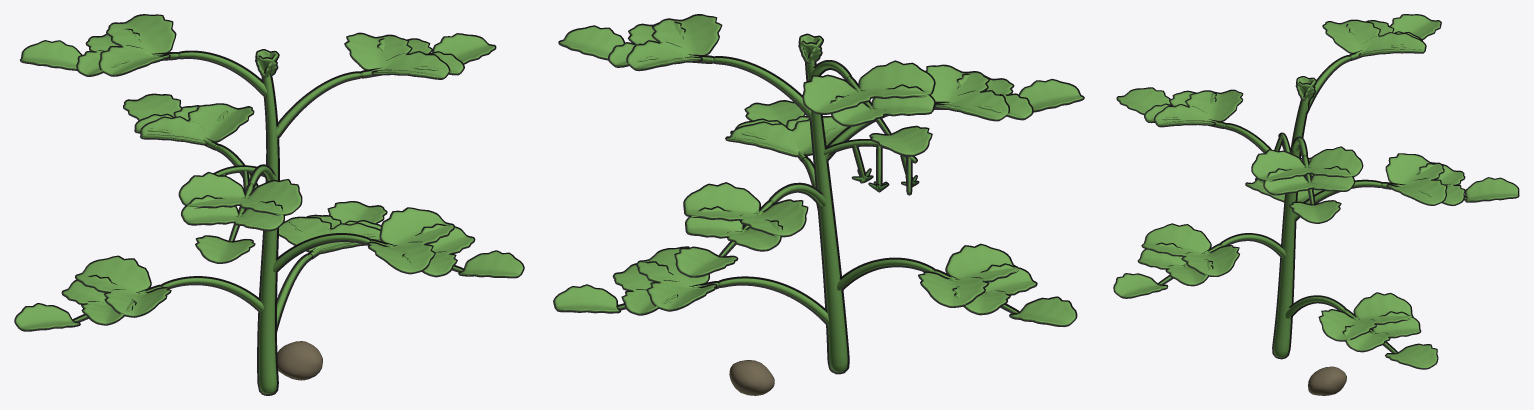
The model's file is tomatoyoungground.fbx.
3 renders of one model, left to right at view 1: azimuth 30°, elevation 25°; view 2: azimuth 150°, elevation 25°; view 3: azimuth 270°, elevation 25°, orthographic. The views are drawn at different scales.
Parts seen in each view (by area): view 1: TomYoung_Leaflets, TomYoung_Stems, TomYoung_Clod_00; view 2: TomYoung_Leaflets, TomYoung_Stems, TomYoung_Truss, TomYoung_Clod_00; view 3: TomYoung_Leaflets, TomYoung_Stems, TomYoung_Clod_00.
Boxes of the visible parts, x1,y1,x2,y2 form: TomYoung_Leaflets: (14, 14, 524, 331); TomYoung_Stems: (72, 50, 464, 395); TomYoung_Clod_00: (277, 341, 322, 380); TomYoung_Leaflets: (553, 14, 1084, 326); TomYoung_Stems: (616, 54, 1020, 374); TomYoung_Truss: (802, 48, 917, 195); TomYoung_Clod_00: (729, 360, 774, 395); TomYoung_Leaflets: (1113, 14, 1519, 369); TomYoung_Stems: (1157, 50, 1467, 359); TomYoung_Clod_00: (1308, 366, 1346, 395).
Size of what is drawn, in the model's own units: 259 by 181 by 219.
